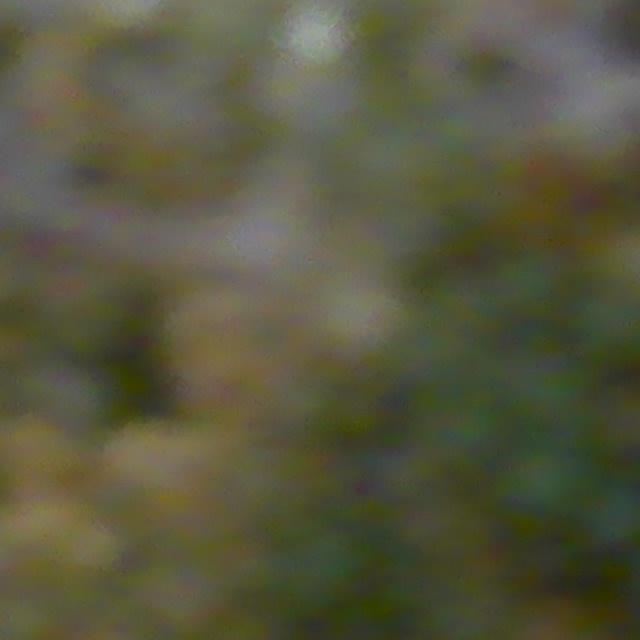SeaGrape: (583, 478, 640, 549)
